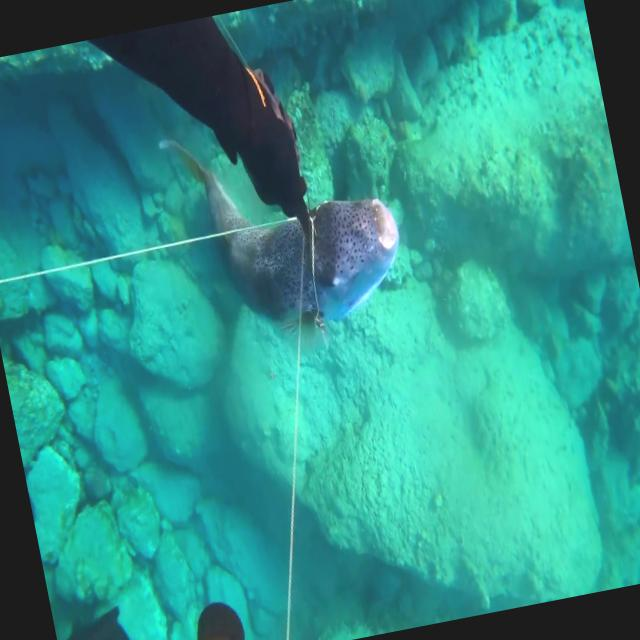Balon Baligi: (157, 99, 417, 374)
